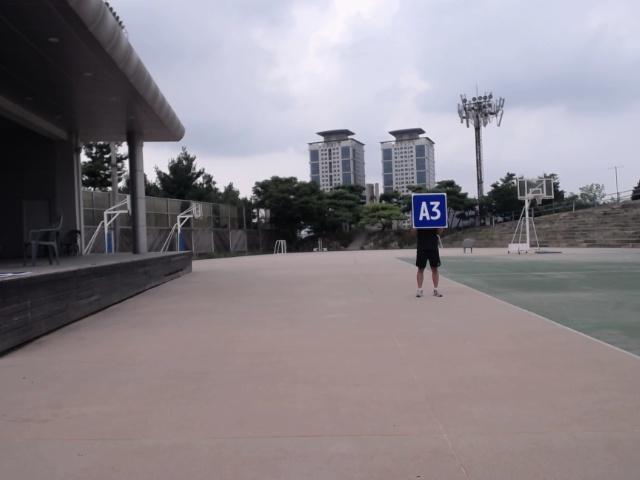delivery_a3: (412, 194, 448, 228)
